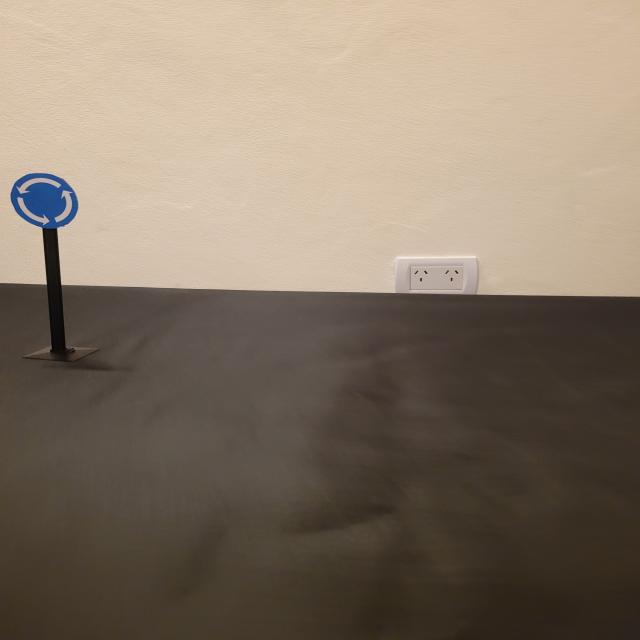round_about: (10, 173, 79, 229)
